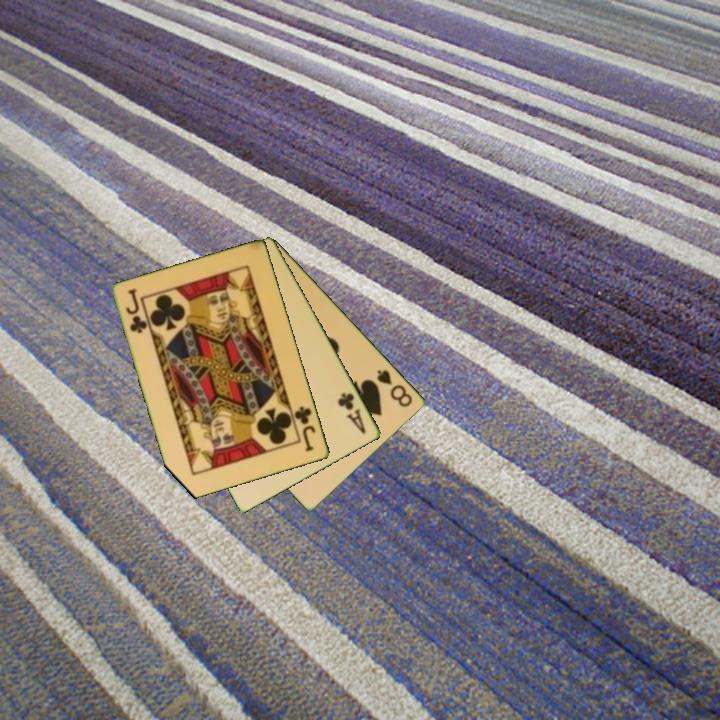8s: (374, 366, 416, 410)
Ac: (334, 389, 369, 437)
Jc: (291, 403, 319, 455), (123, 285, 150, 337)
